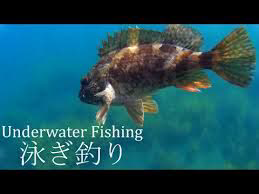kasago: (84, 22, 258, 124)
